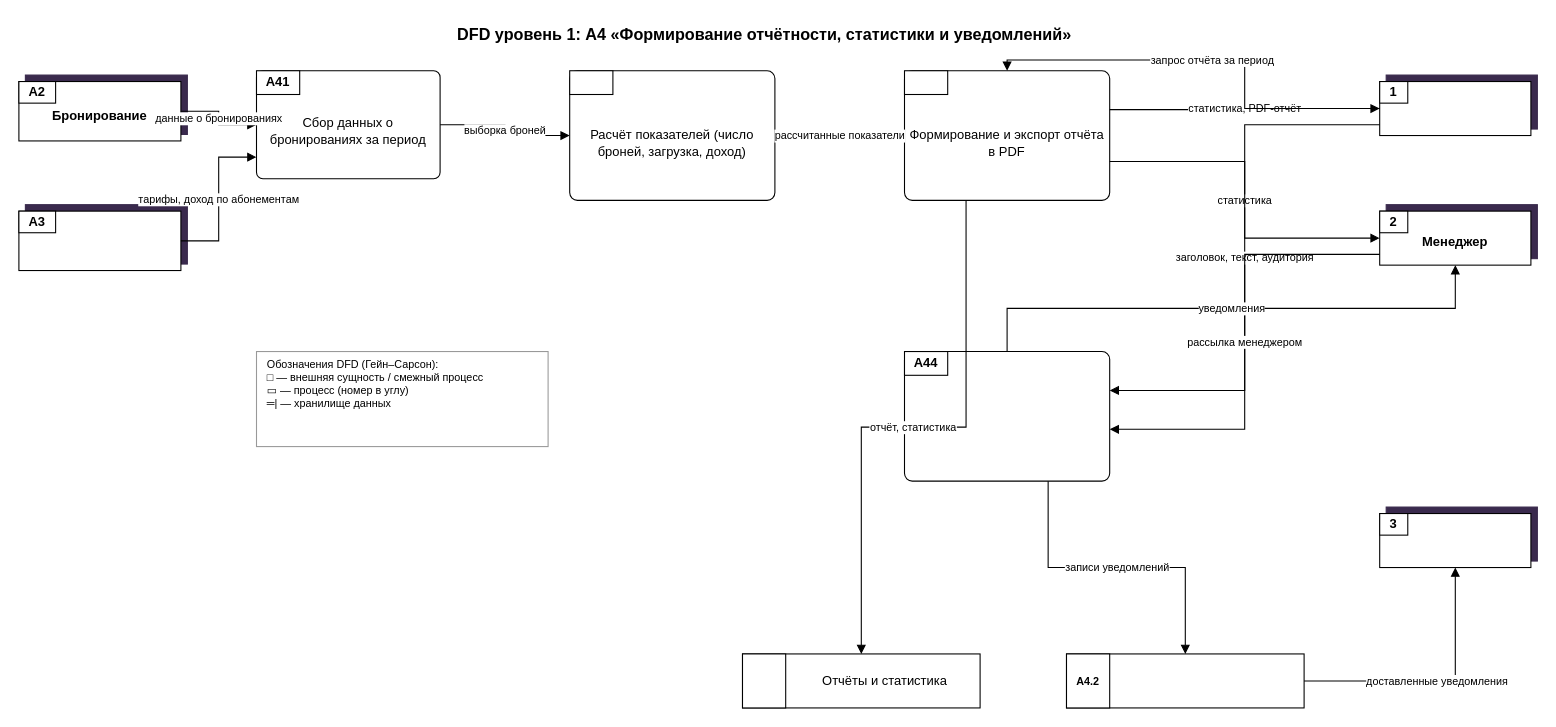
This 1556x727 diagram has some shape labels left out. Each missing label, with the box of its shape:
A4.1: (741, 653, 786, 708)
A42: (569, 70, 613, 94)
A43: (903, 70, 948, 94)
Администратор: (1379, 80, 1531, 136)
Клиент: (1379, 512, 1531, 568)
Отправка уведомлений (выбор аудитории, доставка): (903, 350, 1110, 481)
Тарифы и абонементы: (18, 210, 181, 271)
Уведомления (история): (1065, 653, 1304, 708)
